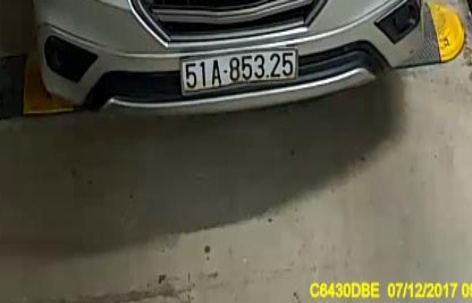plate: (172, 50, 315, 101)
